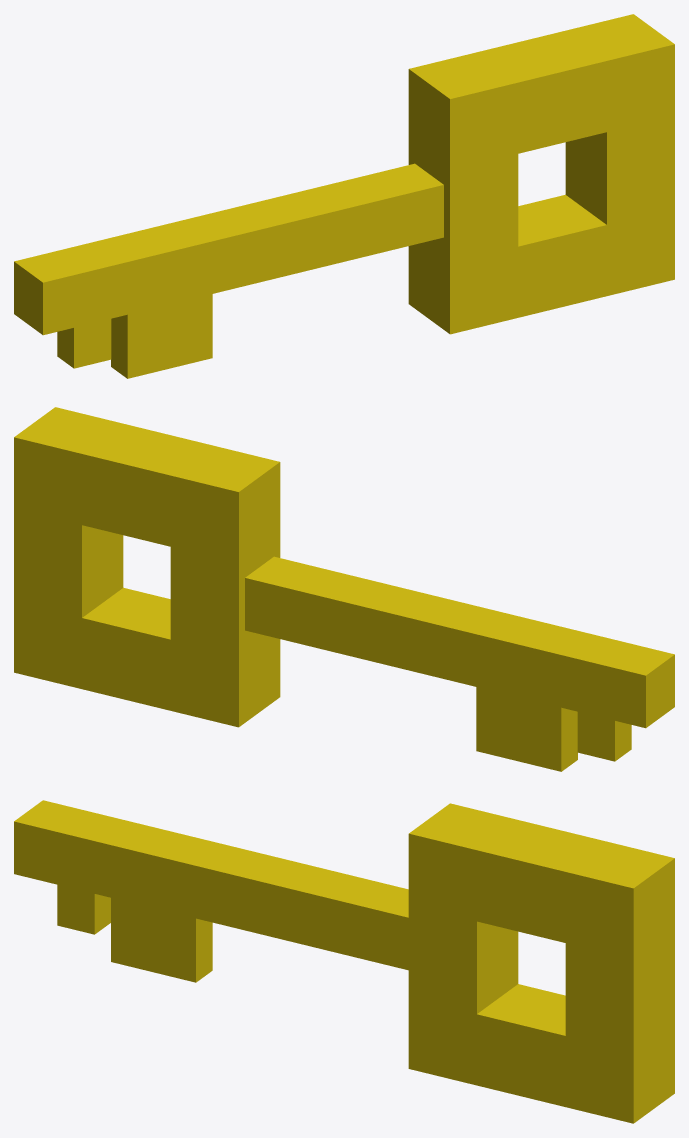
Rendered from key 1.fbx.
3 views of the same model, one above another, from view 1: azimuth 30°, elevation 25°; view 2: azimuth 150°, elevation 25°; view 3: azimuth 330°, elevation 25° (orthographic).
Parts seen in each view (by area): view 1: Cube.002; view 2: Cube.002; view 3: Cube.002.
Part boxes in pixels (x1,y1,x2,y2): Cube.002: [14, 14, 674, 378]; Cube.002: [14, 407, 674, 771]; Cube.002: [14, 800, 674, 1123].
Bounding box in the file's own units: 2.01 × 0.7233 × 0.2305.
